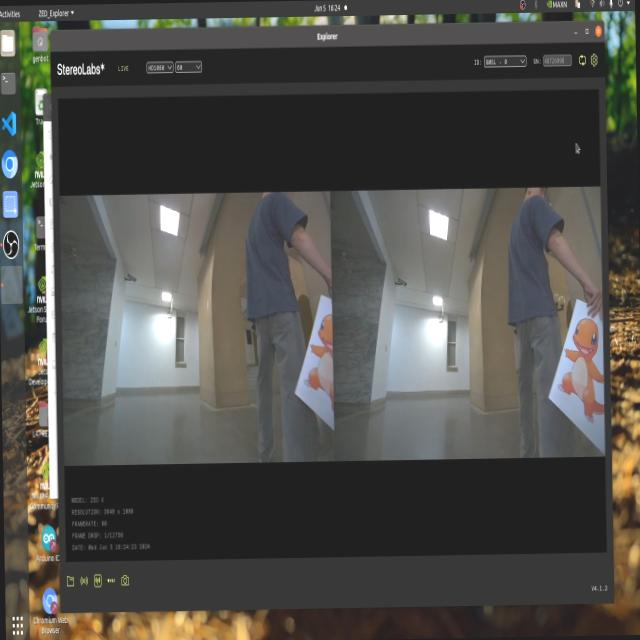red: (542, 296, 600, 428), (306, 301, 334, 417)
